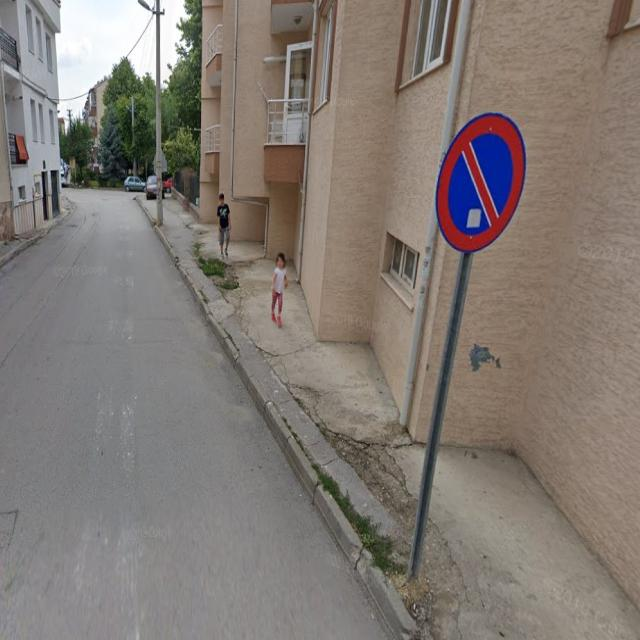parkyasak: (436, 112, 526, 254)
